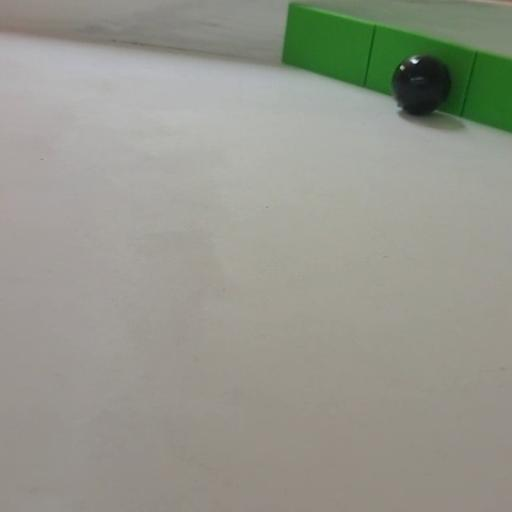dead: (389, 52, 454, 118)
